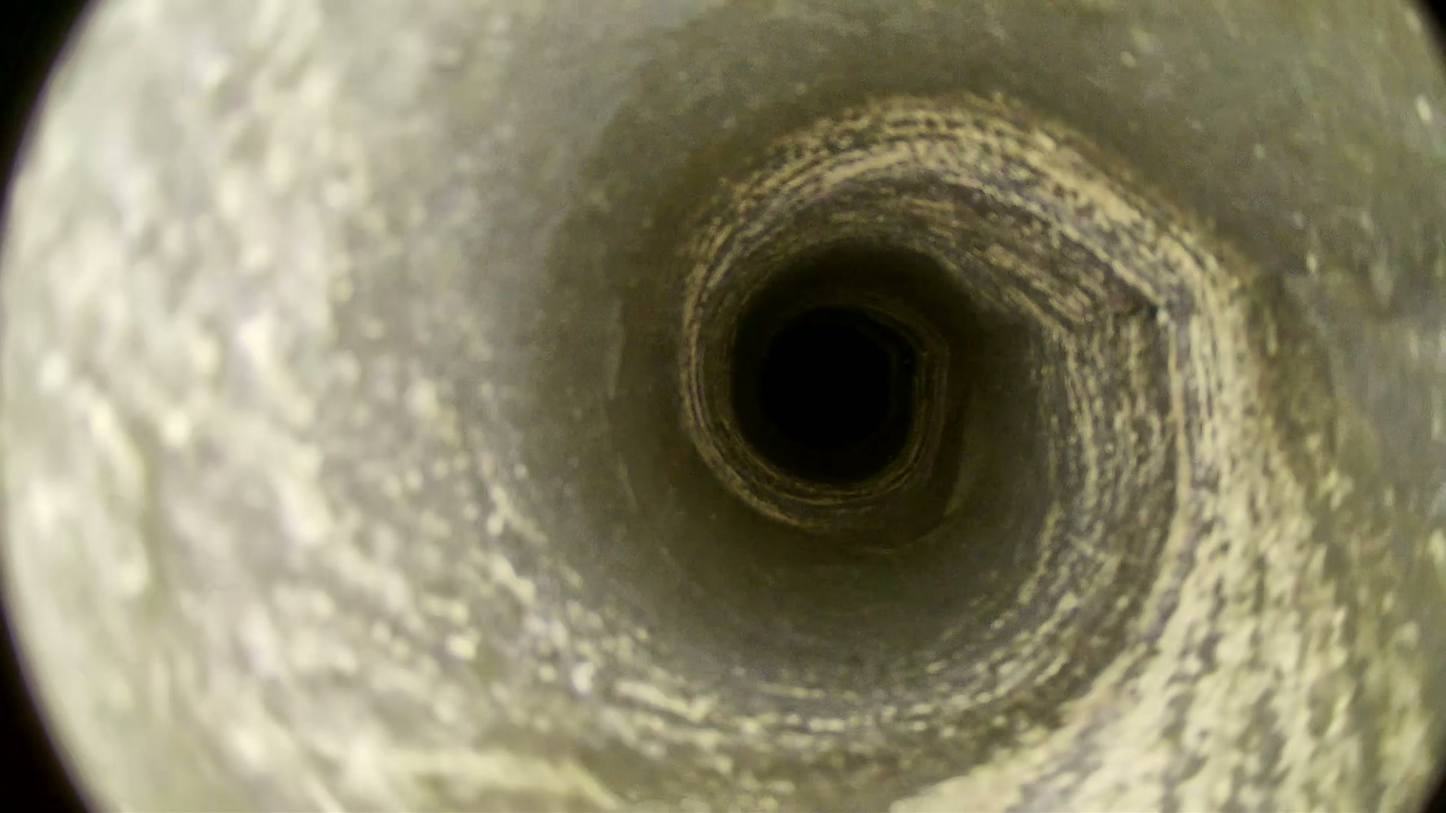hole: (762, 323, 892, 446)
